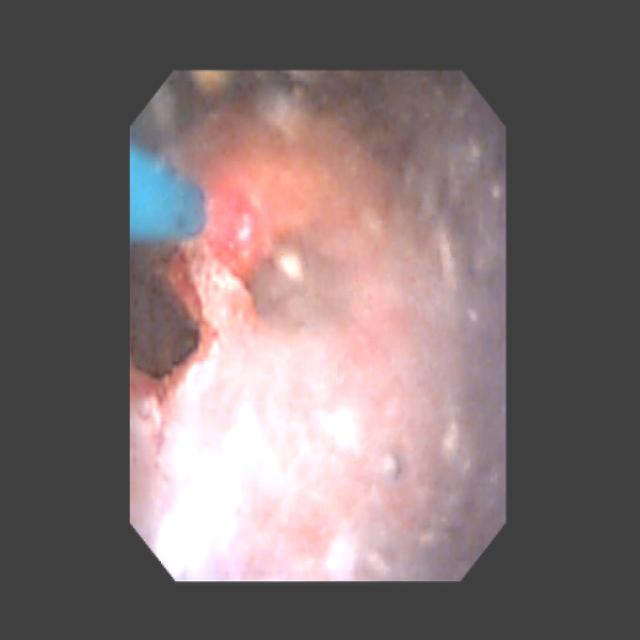fiber: (132, 152, 201, 234)
stone: (136, 87, 458, 572)
